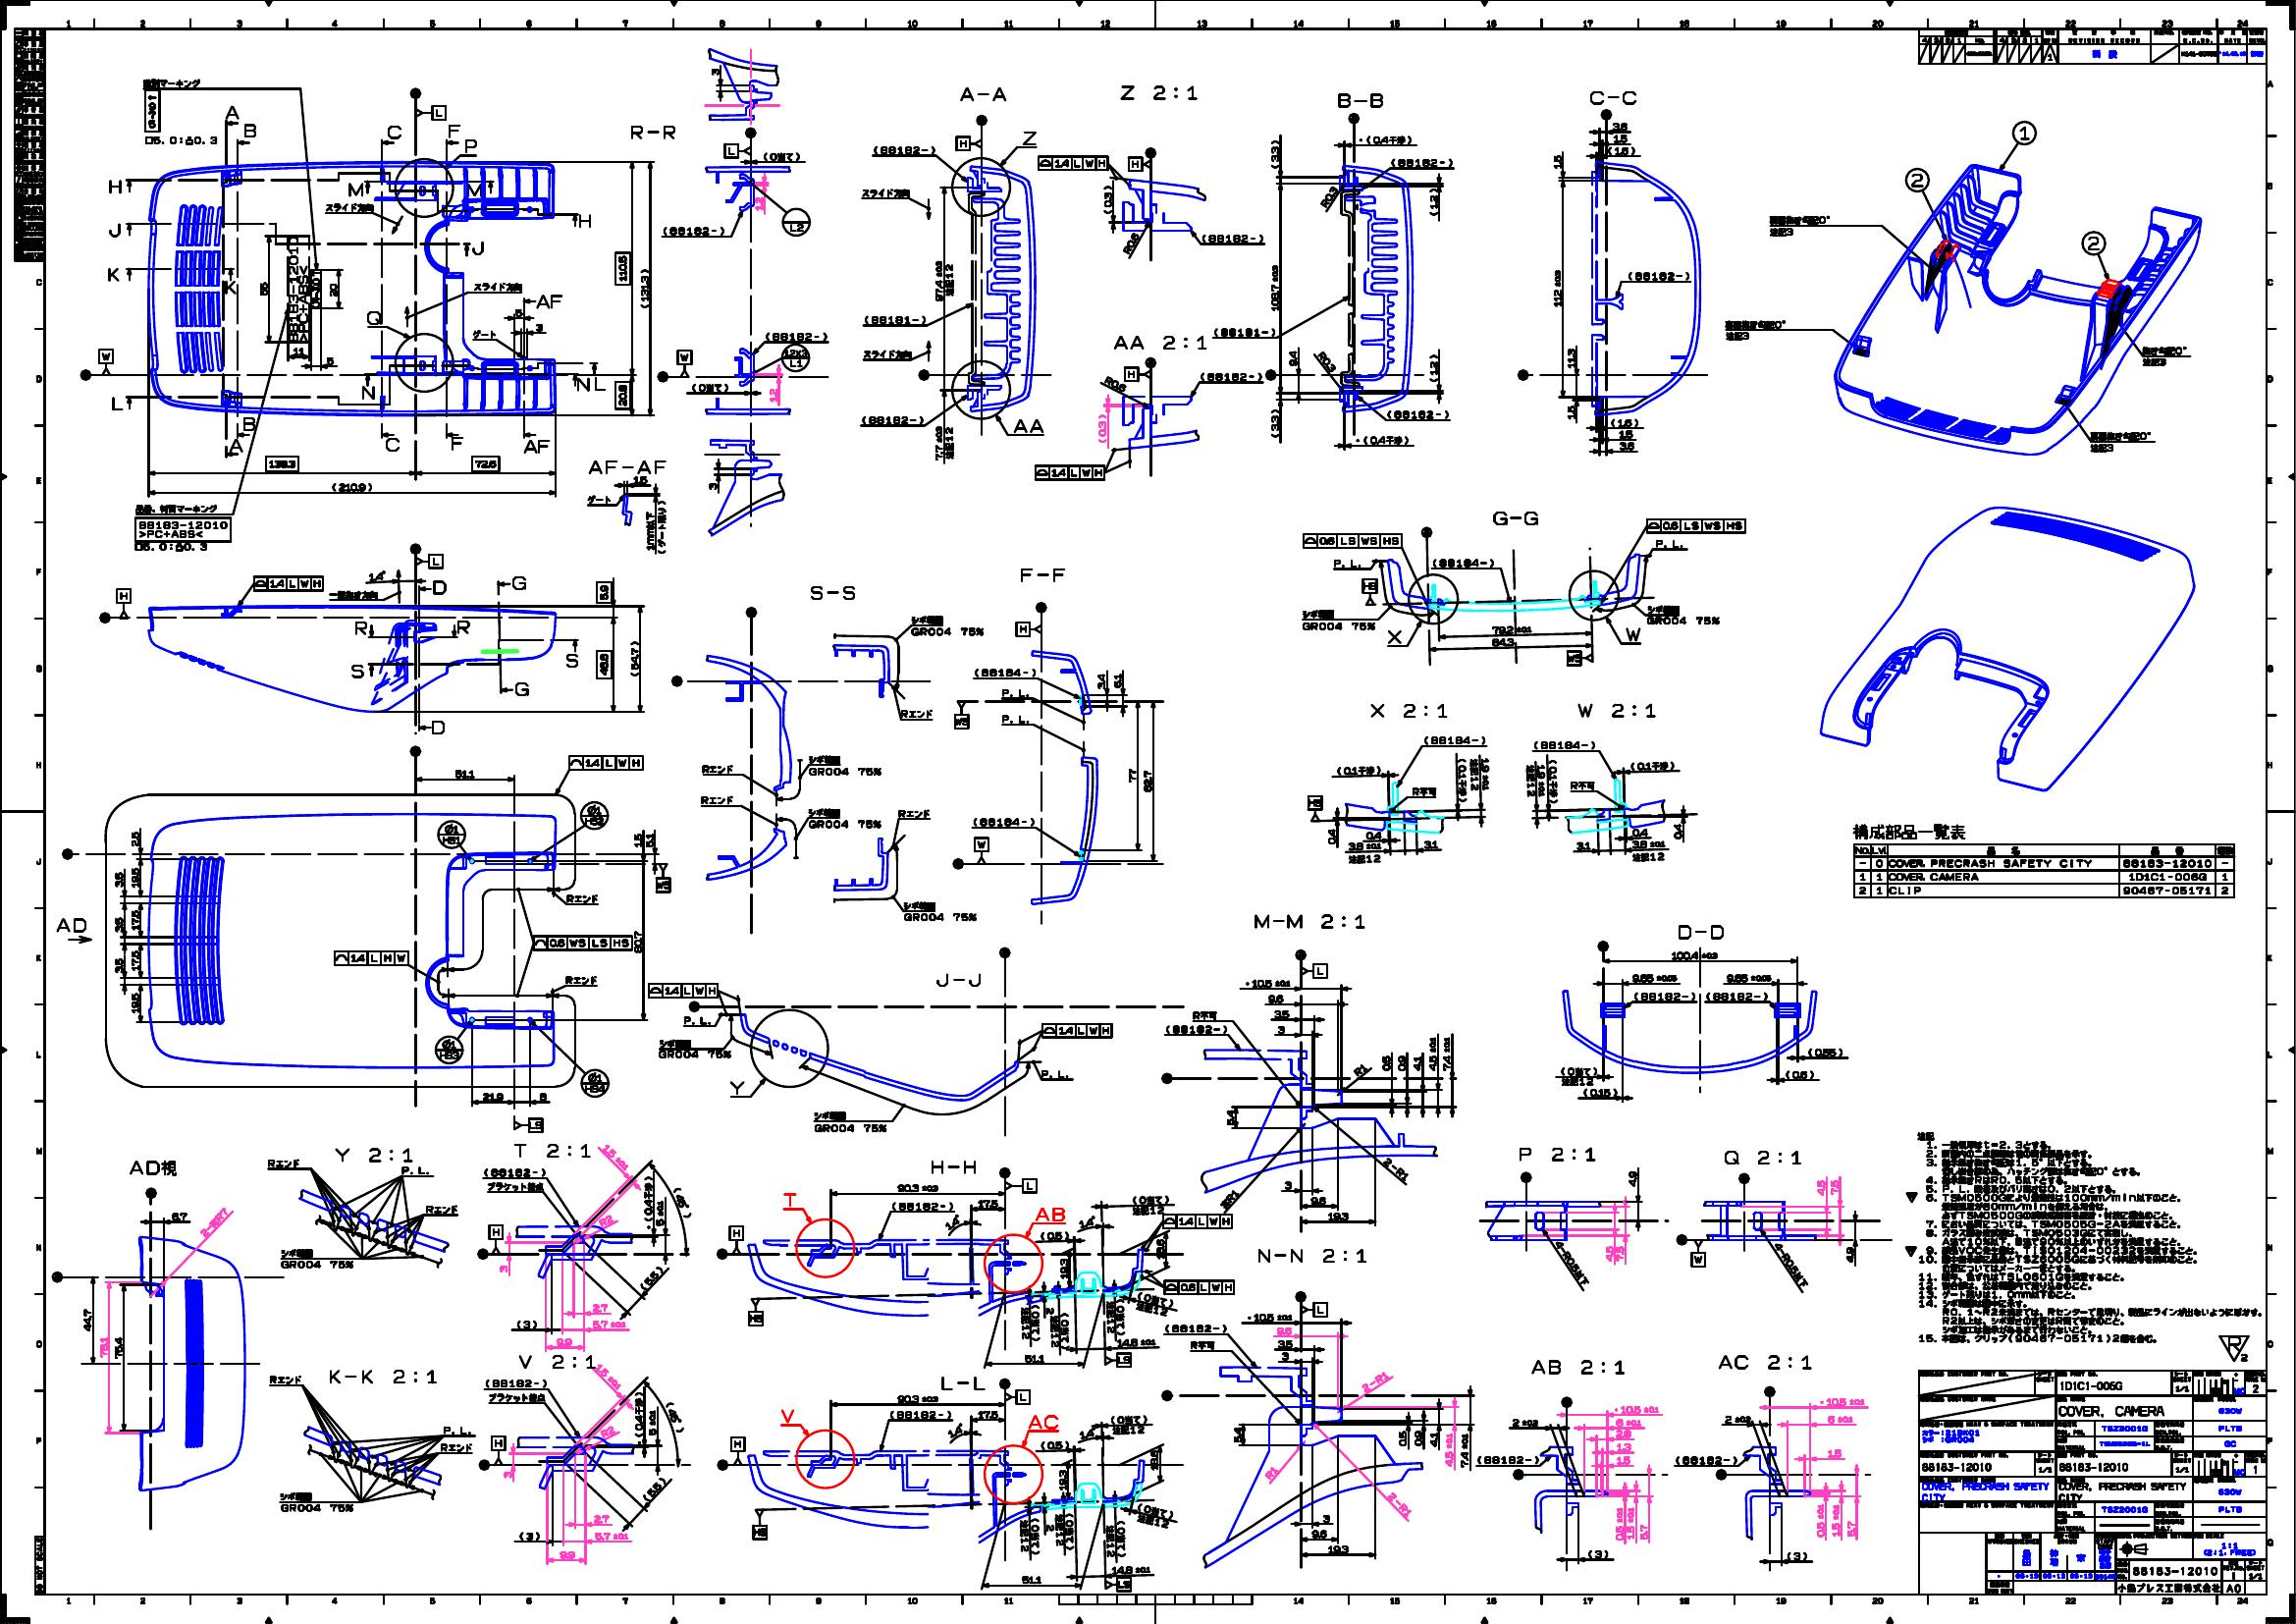anntotation_text: (1901, 1128, 2266, 1346), (1848, 821, 2235, 900), (132, 501, 230, 554), (286, 236, 309, 343), (1251, 910, 1370, 930), (1254, 1246, 1372, 1265), (1527, 1357, 1627, 1378), (1716, 1353, 1816, 1374), (327, 1367, 441, 1385), (806, 752, 882, 779), (1300, 608, 1375, 633), (813, 1109, 889, 1134), (899, 900, 978, 923), (1646, 517, 1748, 534), (908, 613, 986, 636), (532, 933, 632, 951), (1117, 81, 1200, 102), (1110, 332, 1207, 350), (657, 1037, 731, 1060), (1720, 1148, 1806, 1167), (278, 1492, 355, 1513), (1574, 700, 1657, 719), (1367, 701, 1449, 721), (279, 1248, 355, 1269), (806, 808, 882, 830), (1302, 533, 1402, 548), (1648, 605, 1722, 626), (583, 457, 669, 475), (1765, 214, 1830, 237), (1723, 318, 1788, 341), (332, 1146, 415, 1164), (2090, 431, 2154, 453), (1518, 1146, 1599, 1164), (513, 1142, 592, 1160), (645, 499, 669, 555), (516, 1353, 596, 1369), (2215, 1330, 2252, 1364), (1014, 564, 1066, 587), (569, 754, 645, 770), (1033, 464, 1105, 480), (1036, 155, 1108, 170), (648, 981, 720, 997), (1042, 1023, 1114, 1039), (253, 575, 323, 591), (1161, 1213, 1231, 1229), (1674, 921, 1727, 942), (142, 132, 220, 146), (1490, 508, 1541, 529), (332, 951, 408, 965), (2140, 346, 2189, 367), (126, 1158, 179, 1178), (806, 584, 859, 603), (1163, 1280, 1235, 1294), (780, 206, 812, 237), (957, 84, 1008, 104), (933, 972, 987, 990), (580, 1067, 610, 1098), (434, 1033, 464, 1065), (661, 223, 726, 237), (859, 411, 924, 425), (1335, 91, 1386, 109), (1588, 88, 1639, 105), (938, 1374, 989, 1392), (436, 819, 466, 849), (580, 800, 608, 831), (928, 1158, 977, 1176), (782, 343, 812, 371), (2010, 120, 2040, 148), (970, 816, 1036, 828), (1474, 1454, 1541, 1466), (1672, 1454, 1739, 1466), (627, 123, 678, 139), (764, 329, 829, 341), (863, 313, 928, 325), (1390, 156, 1455, 169), (1384, 408, 1449, 420), (1625, 269, 1690, 281), (1432, 557, 1497, 569), (889, 1199, 954, 1211), (1163, 1322, 1228, 1334), (1632, 990, 1697, 1002), (483, 1165, 546, 1178), (1212, 325, 1275, 337), (889, 1408, 952, 1420), (1706, 990, 1769, 1002), (641, 1174, 655, 1229), (141, 77, 202, 90), (1903, 165, 1931, 192), (1760, 1260, 1820, 1272), (1356, 134, 1414, 146), (871, 144, 938, 155), (971, 666, 1038, 677), (1163, 1023, 1230, 1033), (2080, 228, 2106, 255), (1200, 232, 1265, 243), (1532, 740, 1597, 750), (1423, 735, 1488, 745), (1200, 371, 1263, 381), (1026, 1413, 1063, 1431), (35, 1534, 46, 1596), (485, 1181, 545, 1192), (1542, 1260, 1602, 1271), (323, 202, 374, 214), (863, 348, 913, 360), (53, 916, 88, 933), (1353, 434, 1411, 445), (1627, 759, 1676, 772), (146, 90, 160, 132), (483, 1378, 550, 1387), (632, 1390, 645, 1438), (859, 188, 913, 199), (1456, 758, 1469, 803), (513, 1116, 545, 1134), (536, 292, 564, 311), (329, 589, 379, 599), (1012, 417, 1045, 432), (729, 1434, 747, 1464), (487, 1392, 546, 1401), (114, 589, 132, 619), (747, 1297, 764, 1327), (1035, 1206, 1065, 1223), (473, 281, 522, 292), (690, 381, 727, 395), (415, 105, 446, 121), (1548, 758, 1558, 805), (1335, 765, 1383, 775), (1005, 1178, 1036, 1193), (762, 149, 803, 162), (1361, 578, 1379, 606), (1300, 961, 1328, 979), (309, 269, 321, 308), (752, 1508, 768, 1538), (954, 700, 970, 729), (655, 863, 671, 893), (1133, 1302, 1170, 1315), (488, 1223, 502, 1255), (522, 438, 550, 453), (676, 350, 692, 378), (973, 837, 989, 865), (1103, 1352, 1131, 1367), (1690, 1239, 1706, 1267), (1523, 763, 1535, 798), (1467, 756, 1479, 791), (699, 793, 734, 805), (1124, 366, 1151, 381), (1126, 155, 1152, 170), (1565, 650, 1592, 666), (1307, 796, 1323, 823), (415, 554, 441, 569), (1005, 1388, 1031, 1404), (1017, 1519, 1029, 1552), (945, 425, 957, 459), (998, 712, 1031, 724), (899, 707, 933, 719), (1558, 1076, 1597, 1086), (490, 1436, 504, 1464), (724, 144, 752, 158), (956, 135, 984, 149), (729, 1225, 743, 1253), (1300, 1302, 1328, 1316), (423, 1204, 460, 1214), (399, 1164, 430, 1176), (441, 1424, 473, 1436), (439, 1441, 471, 1454), (1105, 1522, 1116, 1559), (1630, 851, 1667, 861), (1346, 852, 1383, 863), (1000, 685, 1031, 698), (1040, 1067, 1072, 1079), (1137, 1517, 1172, 1527), (1105, 1578, 1131, 1592), (98, 348, 112, 374), (945, 262, 956, 297), (1015, 622, 1042, 636), (1655, 538, 1685, 550), (682, 1014, 711, 1026), (269, 1374, 302, 1385), (566, 893, 599, 903), (564, 974, 597, 984), (1021, 1308, 1031, 1341), (1049, 1315, 1059, 1348), (1105, 1301, 1116, 1334), (1131, 1204, 1165, 1214), (585, 492, 613, 504), (241, 121, 258, 141), (105, 221, 123, 241), (365, 308, 383, 327), (471, 239, 488, 258), (466, 181, 483, 200), (239, 413, 256, 432), (574, 376, 592, 395), (592, 374, 610, 394), (1623, 626, 1643, 643), (430, 578, 448, 598), (511, 573, 529, 592), (562, 650, 580, 670), (427, 717, 444, 736), (1054, 1513, 1065, 1545), (1332, 559, 1363, 569), (265, 1158, 302, 1167), (699, 765, 736, 773), (1567, 780, 1597, 791), (223, 104, 241, 121), (105, 178, 123, 195), (104, 265, 121, 283), (221, 279, 239, 297), (446, 121, 464, 139), (107, 395, 125, 413), (227, 438, 244, 455), (360, 383, 378, 401), (1021, 130, 1038, 148), (898, 808, 933, 817), (511, 680, 529, 698), (455, 620, 473, 638), (351, 620, 369, 638), (348, 664, 365, 682), (1112, 1425, 1147, 1434), (348, 181, 364, 200), (462, 137, 478, 156), (383, 434, 399, 453), (448, 432, 464, 452), (578, 211, 594, 230), (1411, 786, 1439, 796), (471, 329, 497, 339), (388, 123, 404, 141), (743, 605, 761, 620), (782, 1190, 798, 1207), (1189, 1339, 1216, 1350), (1191, 1009, 1217, 1019), (727, 1079, 745, 1095), (780, 1408, 796, 1424), (408, 86, 423, 102), (1033, 599, 1049, 615), (1386, 629, 1404, 643), (669, 673, 683, 689), (408, 541, 422, 557), (1518, 1171, 1534, 1185), (1736, 1171, 1751, 1185), (998, 944, 1012, 960), (1144, 355, 1158, 369), (1516, 367, 1530, 381), (1419, 526, 1433, 540), (408, 743, 422, 758), (1159, 1387, 1173, 1401), (1713, 1469, 1727, 1483), (1762, 1385, 1776, 1399), (1293, 1290, 1309, 1302), (144, 1186, 156, 1200), (79, 367, 91, 381), (655, 371, 669, 383), (975, 114, 989, 127), (1144, 148, 1158, 160), (1599, 107, 1613, 120), (950, 858, 964, 870), (98, 612, 112, 624), (917, 367, 929, 381), (1000, 1376, 1012, 1390), (715, 1246, 727, 1260), (998, 1167, 1012, 1179), (1560, 1394, 1572, 1408), (1674, 1232, 1688, 1244), (1161, 1070, 1173, 1084), (60, 847, 74, 859), (51, 1271, 63, 1283), (1347, 112, 1360, 125), (1513, 1468, 1525, 1480), (1597, 940, 1609, 953), (1265, 367, 1275, 381), (1293, 949, 1307, 960), (689, 1000, 699, 1014), (478, 1459, 490, 1469), (478, 1248, 488, 1260), (717, 1459, 729, 1469), (745, 127, 757, 137)
dimension_text: (1268, 262, 1281, 311), (265, 455, 299, 473), (596, 650, 615, 680), (933, 258, 945, 304), (1669, 949, 1720, 960), (615, 251, 631, 285), (471, 455, 501, 473), (613, 381, 631, 411), (1244, 977, 1291, 988), (1630, 972, 1678, 982), (1725, 972, 1773, 982), (1818, 1396, 1866, 1406), (1137, 1292, 1175, 1304), (1458, 1431, 1470, 1469), (1137, 1504, 1175, 1517), (330, 480, 374, 490), (896, 1392, 940, 1403), (1490, 624, 1534, 634), (1247, 1311, 1291, 1322), (1442, 1432, 1455, 1469), (1116, 1336, 1158, 1346), (639, 267, 650, 309), (1426, 1035, 1439, 1070), (1583, 1086, 1618, 1098), (1029, 1519, 1042, 1554), (1108, 1413, 1149, 1424), (1110, 1564, 1151, 1575), (1613, 1404, 1660, 1413), (1379, 1162, 1412, 1174), (1031, 1302, 1042, 1341), (1059, 1311, 1070, 1350), (933, 424, 943, 462), (1551, 269, 1562, 308), (1614, 1504, 1625, 1543), (1116, 1520, 1126, 1559), (596, 582, 613, 605), (629, 640, 639, 677), (1560, 1065, 1597, 1076), (1783, 1069, 1815, 1081), (590, 1318, 627, 1329), (675, 1186, 687, 1218), (195, 1216, 232, 1227), (1100, 183, 1112, 214), (1038, 1438, 1070, 1450), (1808, 1048, 1843, 1058), (896, 1183, 938, 1192), (1632, 838, 1667, 849), (1815, 1503, 1825, 1538), (1426, 186, 1439, 216), (1131, 1195, 1172, 1204), (1065, 1512, 1073, 1552), (1038, 1230, 1072, 1241), (1535, 765, 1546, 798), (1830, 1503, 1841, 1536), (1358, 1376, 1391, 1387), (1383, 1497, 1416, 1508), (1116, 1297, 1124, 1336), (669, 1401, 680, 1432), (1270, 139, 1281, 170), (1625, 1508, 1635, 1540), (516, 1529, 543, 1541), (1609, 417, 1639, 427), (1428, 353, 1439, 383), (1723, 1413, 1753, 1424), (1511, 1417, 1541, 1427), (1442, 1035, 1451, 1070), (590, 1371, 625, 1380), (594, 1531, 629, 1540), (81, 1308, 93, 1332), (1316, 190, 1340, 202), (1607, 146, 1635, 156), (1614, 1417, 1643, 1427), (1481, 758, 1490, 791), (1154, 1237, 1166, 1260), (1103, 378, 1126, 390), (636, 1274, 668, 1283), (1098, 413, 1107, 445), (1314, 357, 1340, 367), (639, 1485, 669, 1494), (1270, 408, 1279, 438), (130, 907, 141, 932), (632, 928, 643, 953), (1217, 1193, 1242, 1204), (1021, 1573, 1042, 1585), (1142, 768, 1152, 793), (1117, 237, 1142, 248), (655, 1199, 664, 1227), (1347, 842, 1383, 849), (130, 991, 141, 1014), (1326, 1211, 1349, 1222), (1058, 1468, 1068, 1490), (1058, 1257, 1068, 1280), (515, 1318, 538, 1329), (1785, 1550, 1808, 1561), (1586, 1548, 1609, 1559), (112, 870, 125, 889), (648, 1410, 657, 1436), (1827, 1413, 1853, 1422), (453, 766, 474, 777), (1309, 1527, 1330, 1538), (1149, 1450, 1159, 1471), (112, 916, 125, 933), (975, 1410, 1000, 1418), (975, 1199, 1000, 1207), (1022, 1353, 1047, 1362), (1490, 638, 1514, 647), (1096, 671, 1107, 691), (367, 571, 386, 582), (1224, 1107, 1235, 1127), (1077, 1218, 1096, 1229), (1288, 348, 1298, 367), (1846, 1519, 1857, 1538), (130, 865, 139, 888), (130, 949, 139, 972), (481, 1091, 504, 1100), (114, 1336, 123, 1359), (98, 1336, 107, 1359), (1326, 1545, 1349, 1554), (1426, 1431, 1439, 1446), (1267, 993, 1284, 1004), (1272, 1009, 1289, 1019), (1381, 1053, 1391, 1070), (1815, 1178, 1825, 1195), (1829, 1178, 1839, 1195), (1845, 1244, 1855, 1262), (1627, 1171, 1637, 1188), (947, 1425, 964, 1436), (945, 1216, 963, 1227), (1126, 766, 1137, 784), (1604, 1244, 1614, 1262), (1551, 153, 1562, 170), (1567, 348, 1576, 369), (1672, 823, 1683, 840), (1614, 1429, 1632, 1439), (1412, 1429, 1423, 1446), (1397, 1429, 1407, 1446), (559, 1550, 578, 1559), (1639, 1522, 1648, 1541), (258, 281, 269, 297), (170, 1209, 186, 1220), (592, 1302, 608, 1313), (1423, 838, 1439, 849), (1326, 828, 1337, 844), (1614, 1246, 1625, 1262), (754, 195, 764, 211), (1565, 404, 1576, 420), (1618, 429, 1634, 439), (1576, 840, 1592, 851), (1613, 132, 1628, 142), (1825, 1446, 1841, 1457), (130, 830, 139, 847), (114, 956, 123, 974), (1309, 1195, 1326, 1204), (1351, 1067, 1368, 1076), (1397, 1053, 1405, 1070), (555, 1338, 573, 1346), (592, 1513, 610, 1522), (1611, 121, 1628, 130), (1233, 1425, 1242, 1443), (1275, 1325, 1293, 1334), (1079, 1429, 1096, 1438), (1412, 1056, 1423, 1070), (1112, 673, 1123, 687), (1620, 439, 1634, 450), (329, 281, 337, 297), (599, 1427, 615, 1436), (1365, 831, 1381, 840), (769, 388, 778, 404), (1632, 828, 1648, 837), (1616, 1443, 1632, 1452), (1263, 1469, 1279, 1478), (706, 480, 717, 492), (292, 346, 306, 355), (632, 833, 641, 847), (645, 833, 653, 847), (1616, 1455, 1630, 1464), (325, 355, 336, 366), (534, 322, 545, 332), (1043, 1306, 1054, 1316), (1277, 1339, 1293, 1346), (1282, 1179, 1291, 1192), (538, 1091, 548, 1100), (499, 1264, 508, 1274), (711, 67, 720, 77), (1321, 1513, 1332, 1522), (1277, 1025, 1286, 1033), (502, 1469, 511, 1478), (1281, 1352, 1289, 1360), (515, 308, 522, 316)
object: (102, 791, 578, 1090), (1832, 160, 2206, 459), (1816, 504, 2198, 793), (146, 158, 559, 418), (701, 633, 899, 905), (144, 601, 560, 715), (1200, 1362, 1425, 1570), (706, 46, 794, 538), (743, 1445, 1145, 1547), (745, 1232, 1147, 1322), (1200, 1048, 1440, 1193), (729, 1012, 1031, 1116), (1590, 158, 1702, 420), (135, 1234, 248, 1494), (1121, 179, 1207, 450), (1560, 988, 1822, 1074), (1337, 162, 1416, 413), (963, 163, 1038, 413), (1340, 779, 1671, 835), (1375, 554, 1650, 620), (1029, 647, 1100, 907), (295, 1188, 450, 1253), (302, 1422, 444, 1487), (513, 1436, 636, 1492), (1741, 1443, 1813, 1538), (1532, 1443, 1609, 1531), (513, 1225, 634, 1280), (1700, 1199, 1822, 1243), (1481, 1199, 1606, 1241), (620, 489, 636, 529)
title_block: (1917, 1369, 2268, 1596), (1917, 30, 2268, 65), (12, 26, 46, 265)
